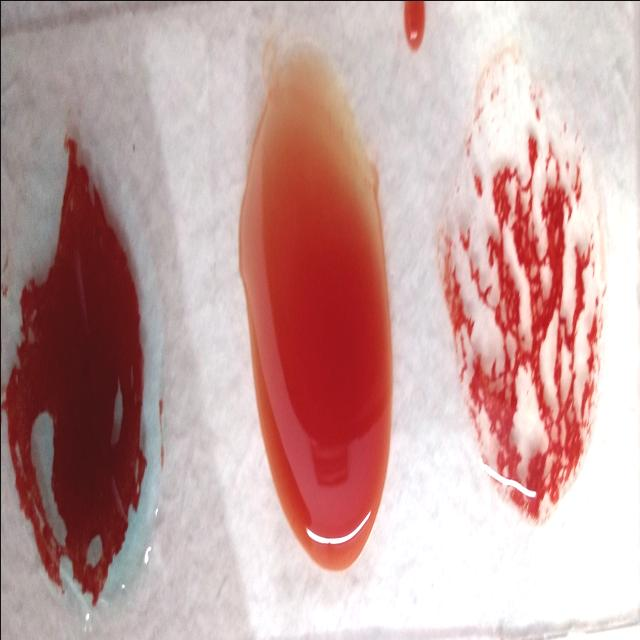A: (4, 153, 163, 632)
D: (446, 74, 602, 517)
